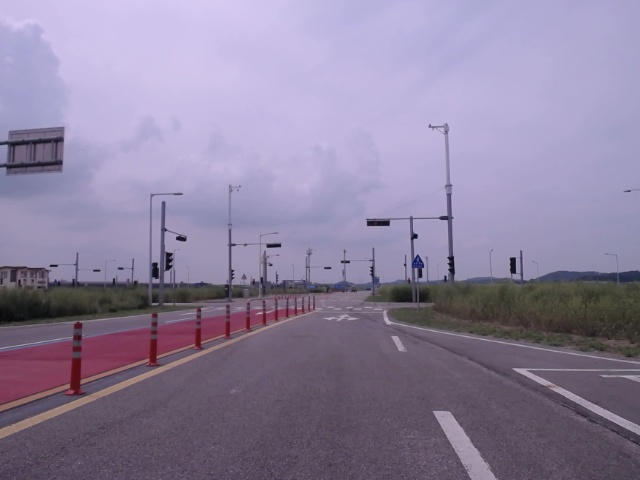orange_4: (364, 217, 391, 227), (341, 259, 351, 265)
